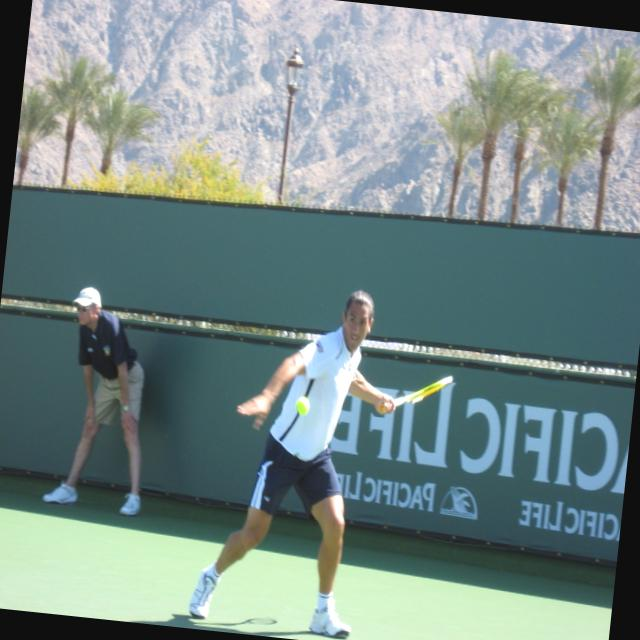Tennis Ball: (296, 395, 310, 415)
